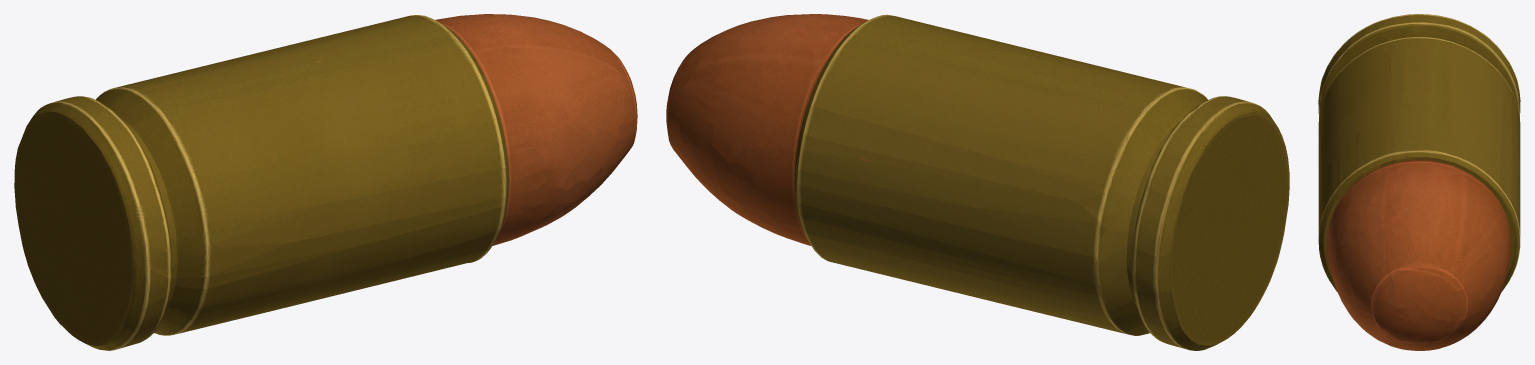
Rendered from ammo_9mm.glb.
3 views of the same model, side by side, from view 1: azimuth 30°, elevation 25°; view 2: azimuth 150°, elevation 25°; view 3: azimuth 270°, elevation 25° (orthographic). The views are drawn at different scales.
Parts seen in each view (by area): view 1: Mesh_0; view 2: Mesh_0; view 3: Mesh_0.
Boxes of the visible parts, x1=… form: Mesh_0: x1=14, y1=14, x2=637, y2=350; Mesh_0: x1=666, y1=14, x2=1289, y2=350; Mesh_0: x1=1318, y1=14, x2=1520, y2=350.
Size of what is drawn, in the model's own units: 0.38 by 0.1514 by 0.1545.
1 material, 1 textured.
